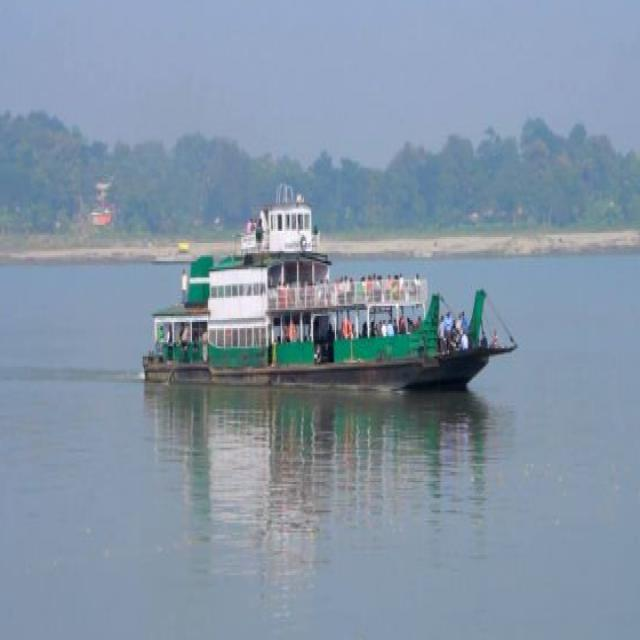passenger ship: (146, 182, 548, 404)
